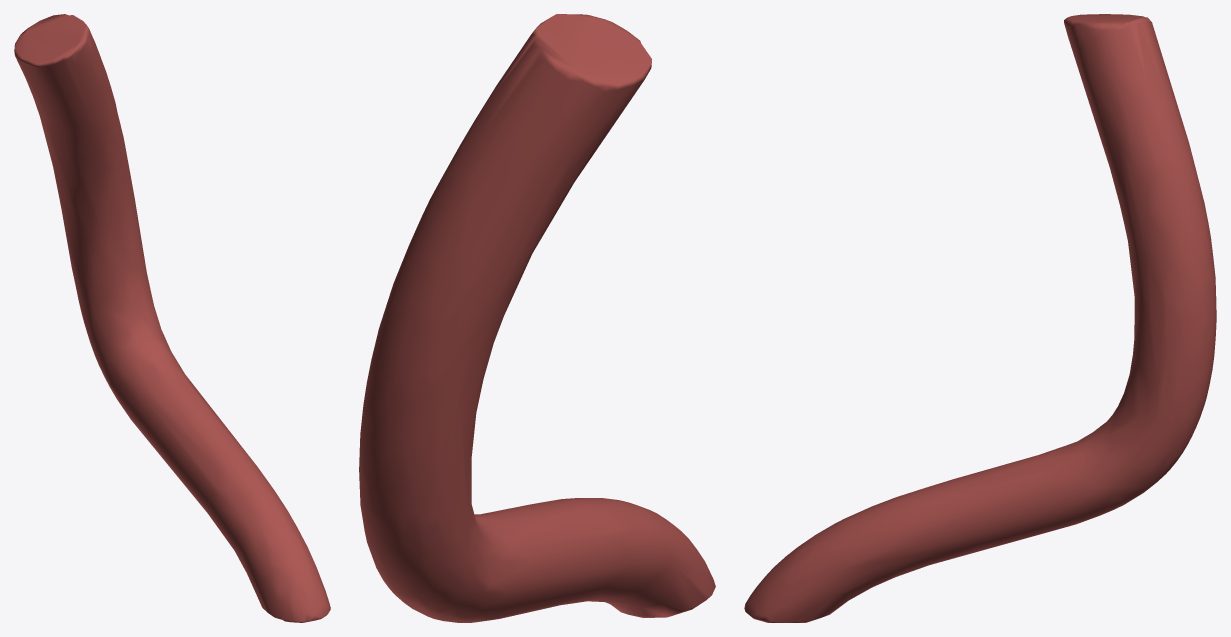
The model's file is FMA18886.glb.
3 views of the same model, side by side, from view 1: azimuth 30°, elevation 25°; view 2: azimuth 150°, elevation 25°; view 3: azimuth 270°, elevation 25° (orthographic). The views are drawn at different scales.
Visible parts, largest first — view 1: FMA18886; view 2: FMA18886; view 3: FMA18886.
Part boxes in pixels (x1=…): FMA18886: x1=14, y1=14, x2=330, y2=622; FMA18886: x1=359, y1=14, x2=715, y2=622; FMA18886: x1=744, y1=14, x2=1216, y2=622.
Bounding box in the file's own units: 0.0302 × 0.0896 × 0.0697.
